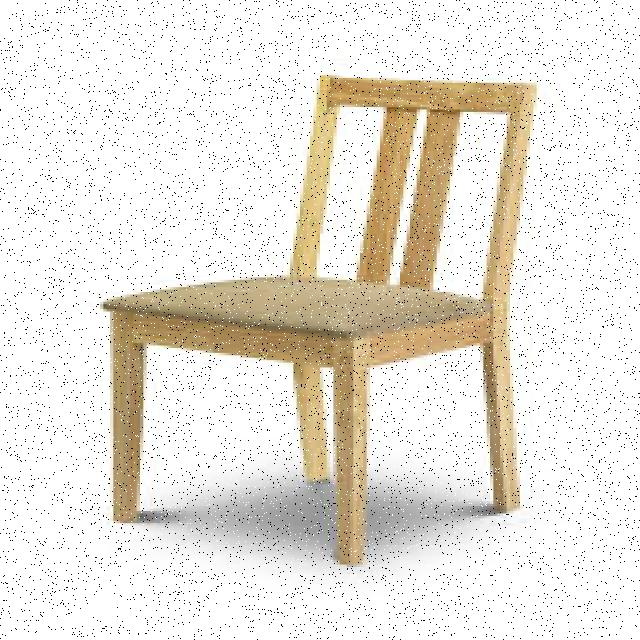bottle: (95, 73, 542, 570)
